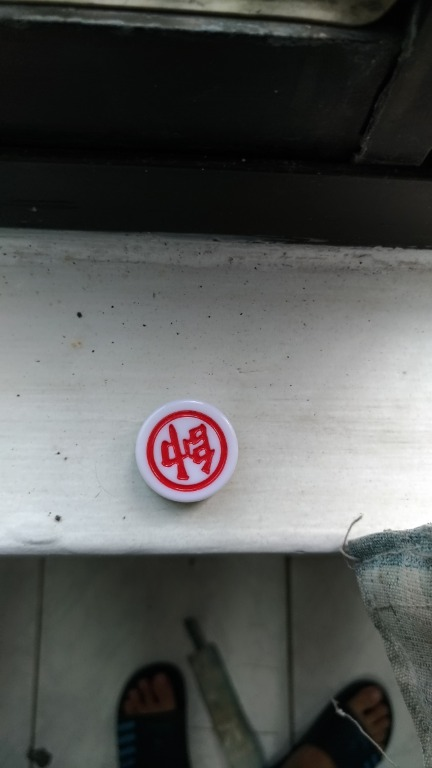r-king: (130, 391, 248, 506)
